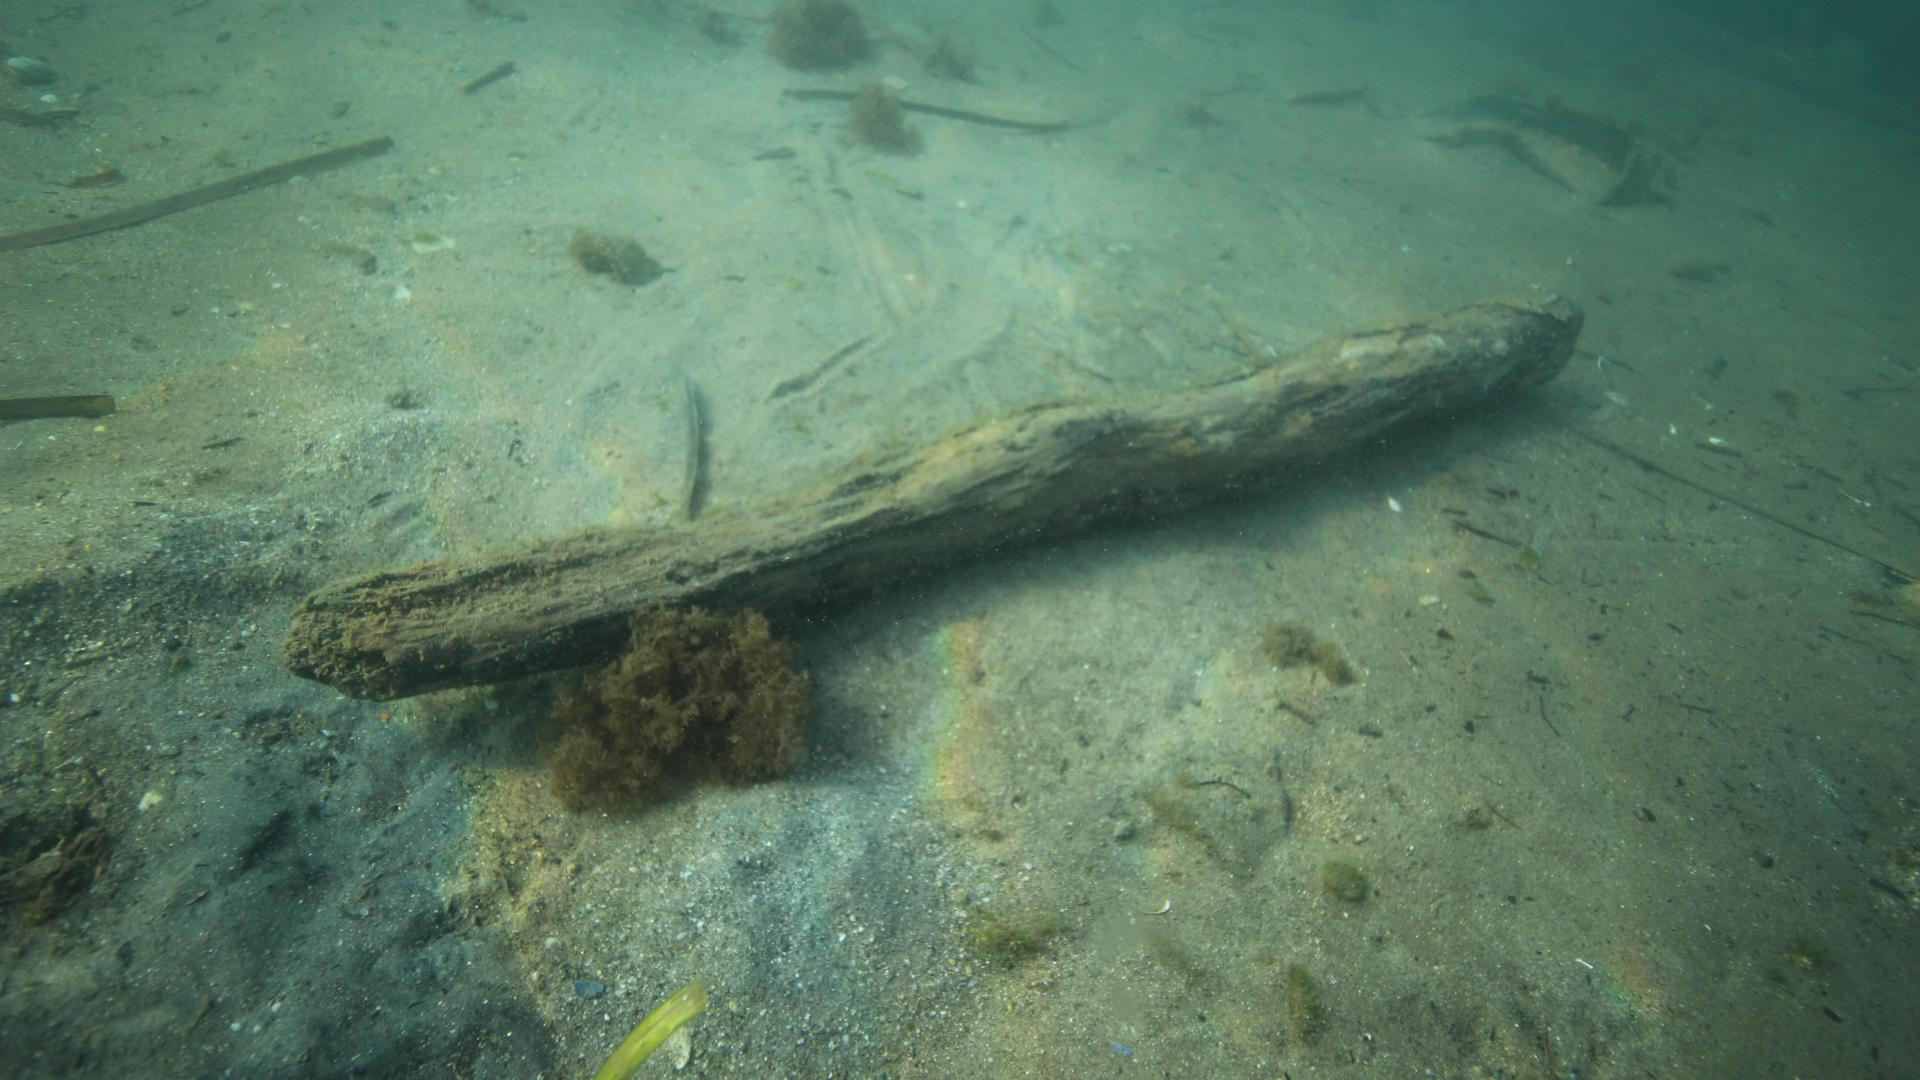wood: (278, 276, 1585, 709)
